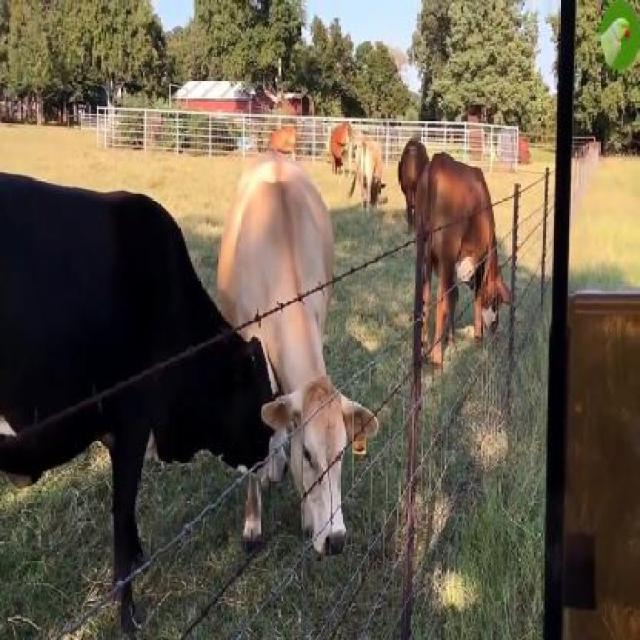Cow: (0, 168, 291, 624), (217, 154, 375, 558), (414, 152, 515, 374)
